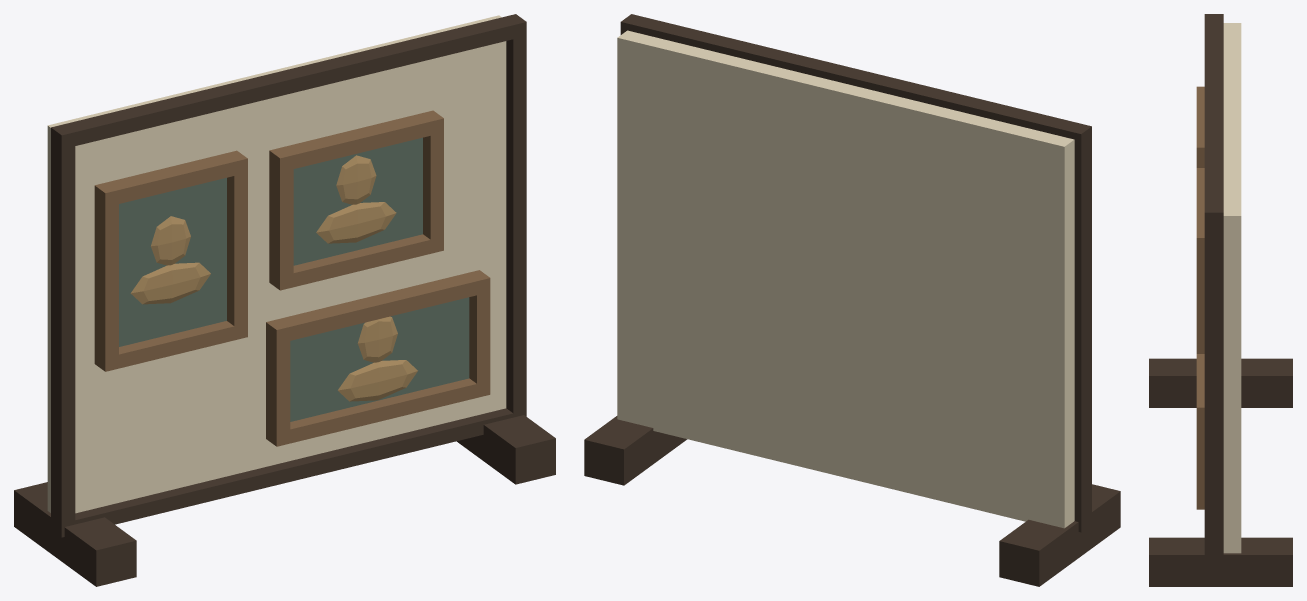
File: 09_Portrait_Wall.fbx
3 views of the same model, side by side, from view 1: azimuth 30°, elevation 25°; view 2: azimuth 150°, elevation 25°; view 3: azimuth 270°, elevation 25° (orthographic). The views are drawn at different scales.
Parts seen in each view (by area): view 1: Structure.008; view 2: Structure.008; view 3: Structure.008.
Boxes of the visible parts, bbox=[...] form: Structure.008: bbox=[14, 14, 555, 586]; Structure.008: bbox=[584, 14, 1120, 586]; Structure.008: bbox=[1149, 14, 1292, 586].
Size of the model in its own units: 346 by 305 by 106.
